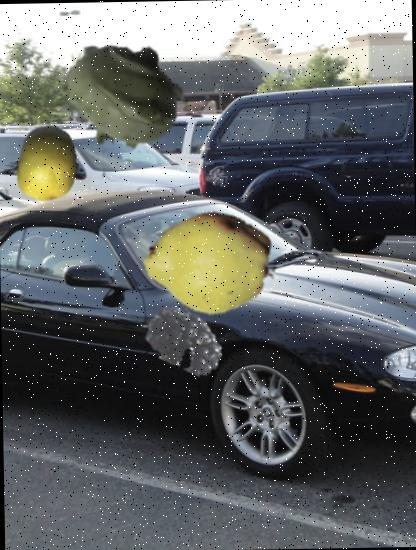Kohlrabi: (61, 34, 184, 156)
Mulberry: (140, 284, 234, 378)
Pomelo: (8, 125, 86, 203)
Quince: (143, 197, 276, 330)
